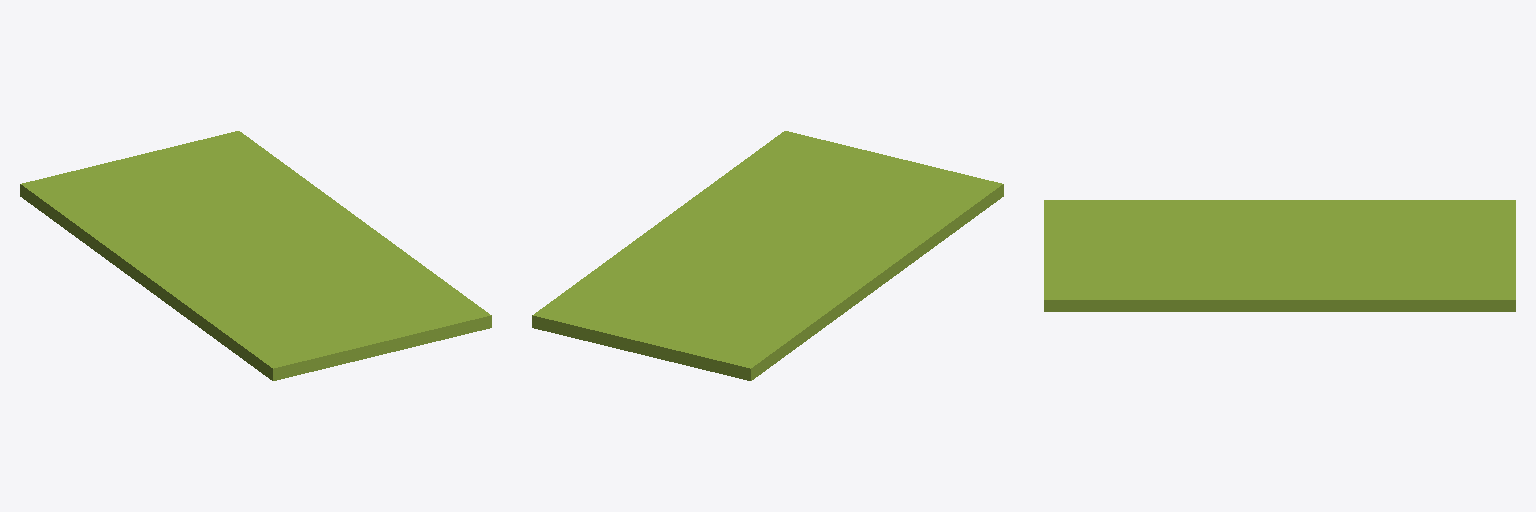
The robot description file, URDF, robot "table.urdf":
<?xml version="0.0" ?>
<robot name="table.urdf">
  <link name="baseLink">
    <contact>
      <lateral_friction value="1.0"/>
    </contact>
    <inertial>
      <origin rpy="0 0 0" xyz="0 0 0"/>
      <mass value=".0"/>
      <inertia ixx="1" ixy="0" ixz="0" iyy="1" iyz="0" izz="1"/>
    </inertial>
    <visual>
      <origin rpy="0 0 0" xyz="0 0 -0.025"/>
      <geometry>
        <box size="0.9 1.8 0.05"/>
      </geometry>
       <material name="green">
        <color rgba=".604 .714 .298 1"/>
      </material>
    </visual>
    <collision>
      <origin rpy="0 0 0" xyz="0 0 -0.025"/>
      <geometry>
         <box size="0.9 1.8 0.05"/>
      </geometry>
    </collision>
  </link>
</robot>

--- What the picture shows (computed from the rendered views, not written in the file) ---
3 views of the same robot in one strip: view 1: azimuth 30°, elevation 25°; view 2: azimuth 150°, elevation 25°; view 3: azimuth 270°, elevation 25° (orthographic).
Robot: table.urdf — 1 links, 0 joints (none); root link baseLink; default pose: all joints at 0.
Links seen in each view (by area): view 1: baseLink; view 2: baseLink; view 3: baseLink.
Link boxes in pixels (x1,y1,x2,y2): baseLink: (20,131,491,380); baseLink: (532,131,1003,380); baseLink: (1044,200,1515,311).
Bounding box of the posed robot: 0.9 × 1.8 × 0.05 m (x, y, z).
Geometry: primitives only (box / cylinder / sphere), no mesh files.